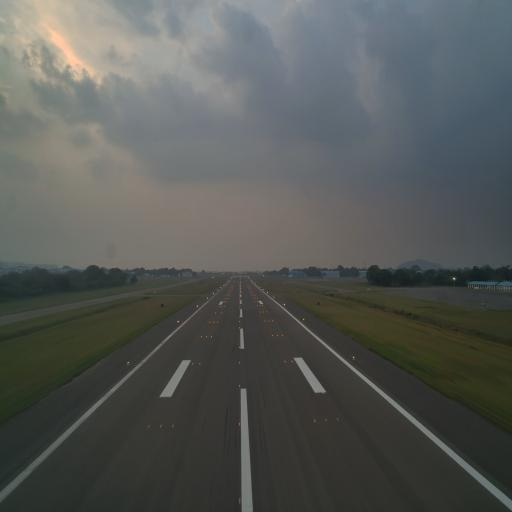on: (238, 496, 242, 506), (158, 422, 163, 429), (336, 415, 340, 423), (238, 420, 242, 427), (324, 416, 328, 423), (238, 383, 242, 390), (171, 424, 175, 430), (313, 418, 317, 424), (126, 360, 130, 366), (352, 355, 355, 361), (148, 422, 150, 430), (191, 362, 195, 366), (184, 363, 188, 366), (238, 361, 241, 365), (291, 359, 293, 364), (198, 362, 201, 365), (284, 360, 286, 364), (298, 358, 300, 362)
